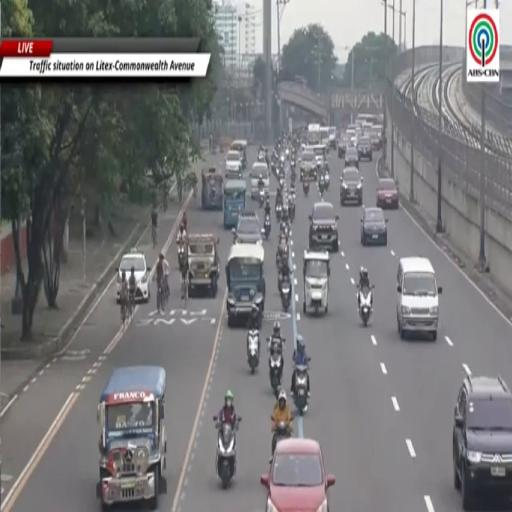bus: (307, 124, 321, 145)
car: (453, 372, 511, 509), (261, 438, 335, 511), (397, 256, 442, 341), (117, 248, 151, 302), (309, 201, 339, 251), (361, 207, 387, 245), (233, 212, 261, 244), (340, 167, 363, 205), (376, 179, 398, 209), (225, 151, 242, 179), (300, 152, 316, 181), (358, 135, 372, 161), (345, 147, 359, 168), (339, 136, 350, 158), (345, 125, 356, 146), (370, 132, 380, 150)
jeepney: (97, 366, 166, 510), (226, 244, 265, 327), (188, 234, 220, 296), (303, 251, 329, 313), (224, 180, 247, 229), (201, 168, 223, 210), (300, 150, 317, 181), (231, 140, 247, 169), (312, 144, 326, 166)
motorcycle: (213, 416, 241, 489), (269, 339, 284, 398), (294, 365, 308, 415), (272, 422, 291, 455), (247, 329, 260, 374), (358, 285, 372, 326), (280, 278, 292, 312), (276, 244, 288, 269), (177, 244, 187, 267), (280, 223, 290, 241), (288, 203, 296, 223), (264, 214, 270, 239), (318, 175, 325, 196), (276, 203, 282, 222), (303, 180, 309, 197), (259, 187, 264, 207), (258, 152, 266, 163), (324, 172, 329, 189), (291, 168, 296, 184), (291, 157, 296, 171), (279, 176, 284, 188), (285, 149, 289, 158)
